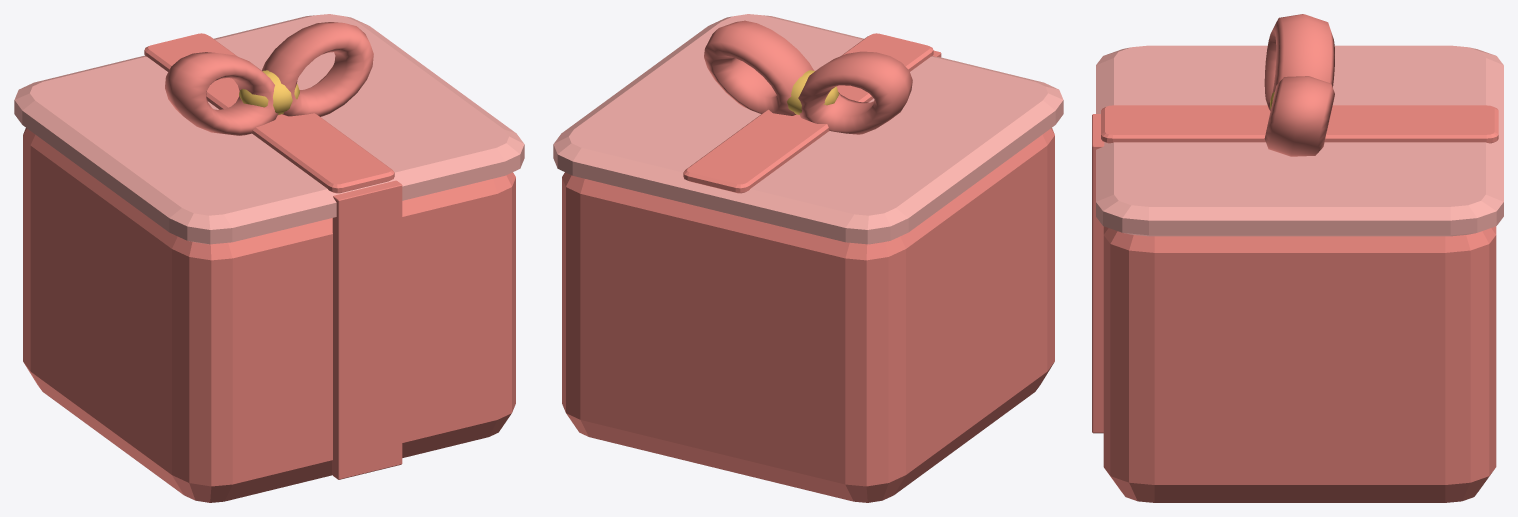
Rendered from gift_box_toy.glb.
The picture shows the model from 3 angles, left to right: view 1: azimuth 30°, elevation 25°; view 2: azimuth 150°, elevation 25°; view 3: azimuth 270°, elevation 25°; orthographic projection. The views are drawn at different scales.
Visible parts, largest first — view 1: carton, lid, model, ribbon; view 2: carton, lid, model, ribbon; view 3: carton, lid, ribbon, model.
Boxes of the visible parts, x1,y1,x2,y2 form: carton: (23,128,515,502); lid: (14,14,524,244); model: (165,22,402,479); ribbon: (144,33,394,193); carton: (562,128,1054,502); lid: (553,14,1063,244); model: (704,20,941,134); ribbon: (683,33,933,193); carton: (1103,226,1496,502); lid: (1096,45,1503,236); ribbon: (1101,105,1498,143); model: (1092,14,1334,433).
Bounding box in the file's own units: 0.5 × 0.5 × 0.5.
